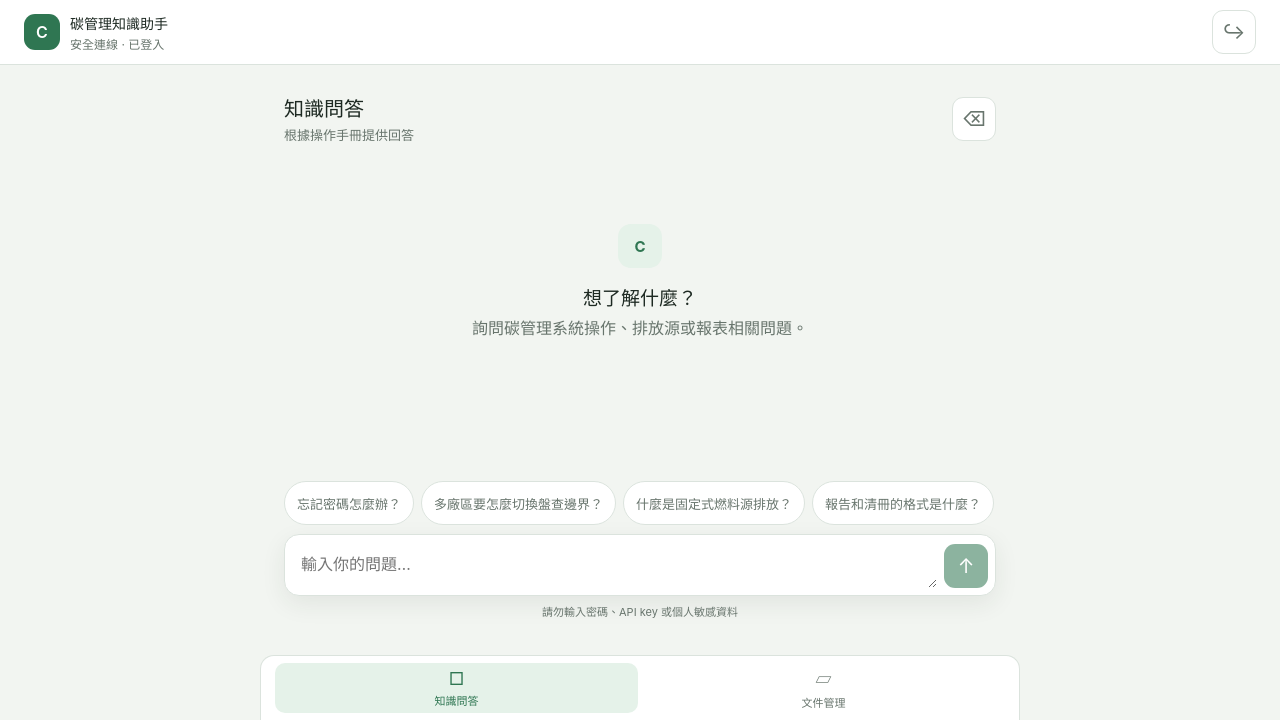
Test: chat acceptance › does not execute raw HTML or unsafe Markdown URLs
The image size is (1280, 720).
Type "問題" into the text box named "輸入問題" at (614, 565), box [292,542,937,588]
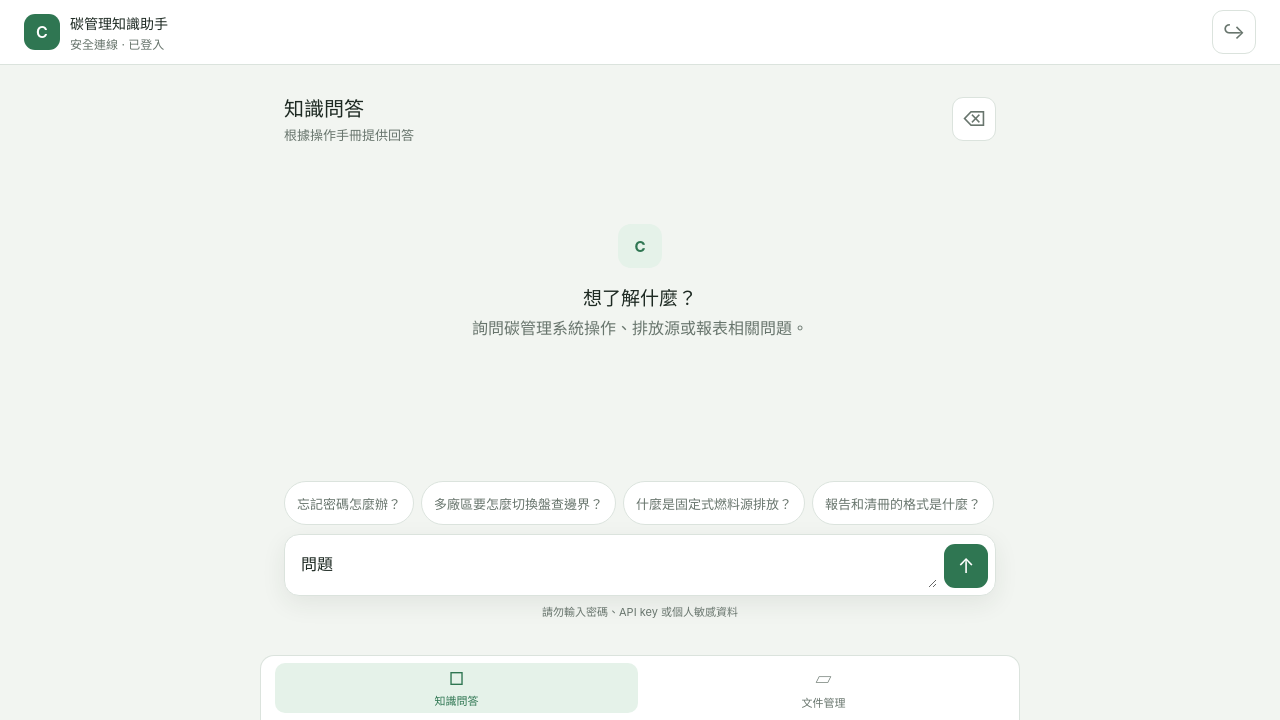
Click the button named "送出問題" at (966, 566), box [944,544,988,588]
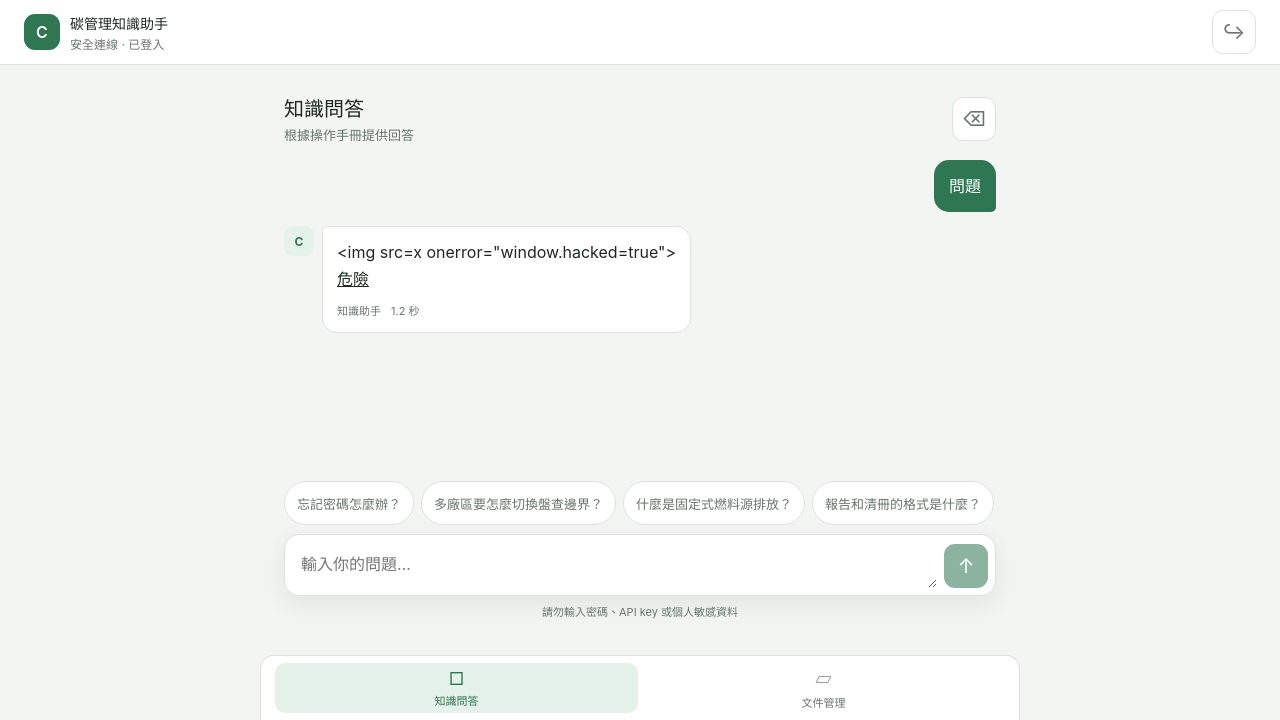
Check: the link "危險" is shown, box [337,269,369,289]
